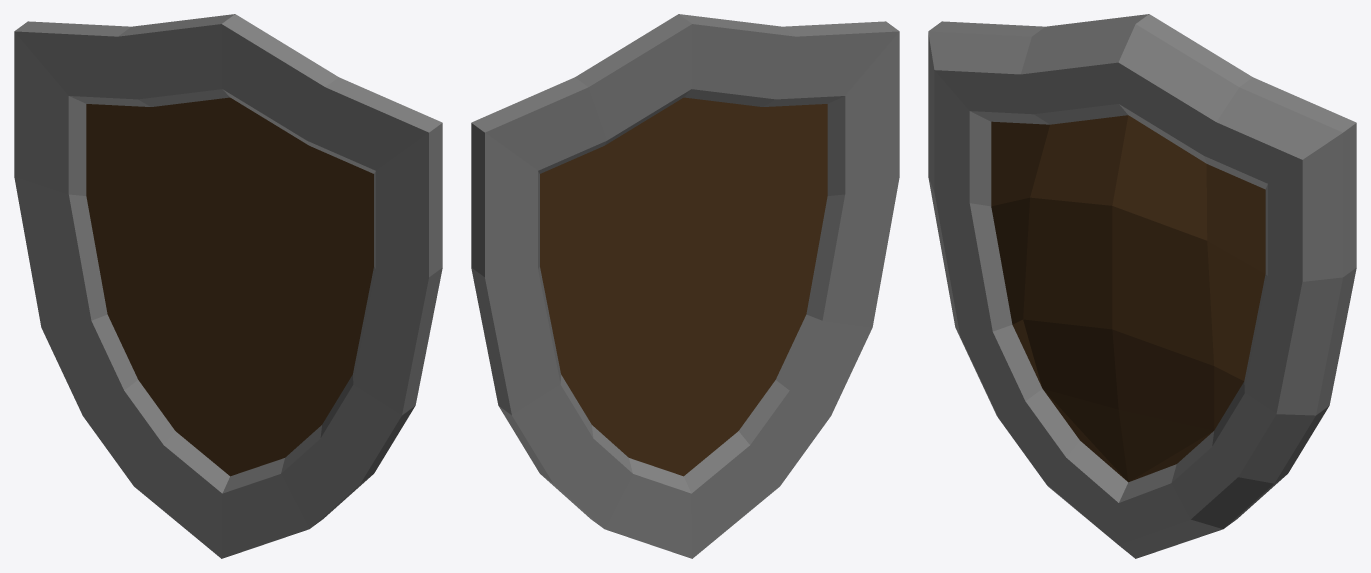
The model's file is Iron Shield.fbx.
3 renders of one model, left to right at view 1: azimuth 90°, elevation 25°; view 2: azimuth 150°, elevation 25°; view 3: azimuth 270°, elevation 25°, orthographic.
Parts seen in each view (by area): view 1: Box011; view 2: Box011; view 3: Box011.
Part boxes in pixels (bbox=[...]): Box011: bbox=[14, 14, 442, 558]; Box011: bbox=[471, 14, 899, 558]; Box011: bbox=[928, 14, 1356, 558].
Bounding box in the file's own units: 13.05 × 27.56 × 20.01.
